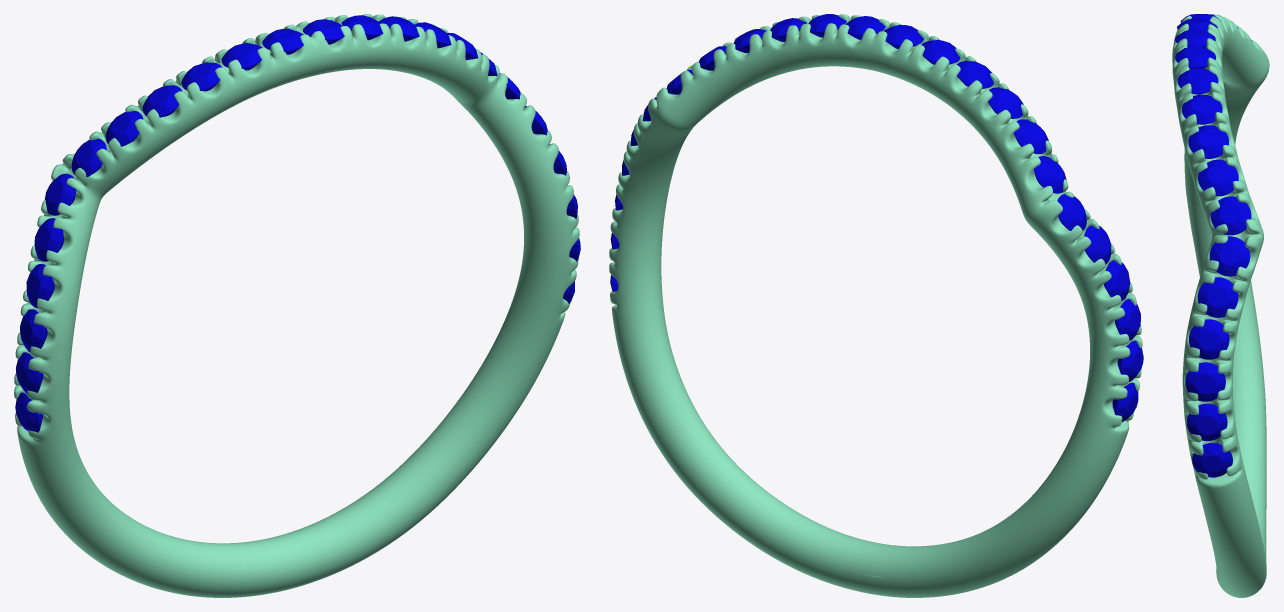
The picture shows the model from 3 angles, left to right: view 1: azimuth 30°, elevation 25°; view 2: azimuth 150°, elevation 25°; view 3: azimuth 270°, elevation 25°; orthographic projection. The views are drawn at different scales.
Visible parts, largest first — view 1: Metal03, Diamond_Band.005, Diamond_Band.004, Diamond_Band.019, Diamond_Band.006, Diamond_Band.023, Diamond_Band.003, Diamond_Band.007, Diamond_Band.002, Diamond_Band.008; view 2: Metal03, Diamond_Band.023, Diamond_Band.019, Diamond_Band.005, Diamond_Band.004, Diamond_Band.006, Diamond_Band.003, Diamond_Band.007, Diamond_Band.002; view 3: Metal03, Diamond_Band.015, Diamond_Band.016, Diamond_Band.022, Diamond_Band.017, Diamond_Band.020, Diamond_Band.021, Diamond_Band.014, Diamond_Band.018, Diamond_Band.013, Diamond_Band.012, Diamond_Band.011 (+3 smaller).
Boxes of the visible parts, left/top/right/bottom form: Metal03: left=14, top=14, right=579, bottom=597; Diamond_Band.005: left=105, top=111, right=143, bottom=146; Diamond_Band.004: left=34, top=218, right=63, bottom=261; Diamond_Band.019: left=44, top=173, right=76, bottom=215; Diamond_Band.006: left=142, top=85, right=182, bottom=117; Diamond_Band.023: left=71, top=138, right=106, bottom=176; Diamond_Band.003: left=26, top=264, right=54, bottom=308; Diamond_Band.007: left=181, top=62, right=222, bottom=91; Diamond_Band.002: left=20, top=309, right=47, bottom=352; Diamond_Band.008: left=221, top=43, right=262, bottom=70; Metal03: left=609, top=14, right=1142, bottom=597; Diamond_Band.023: left=1033, top=156, right=1066, bottom=193; Diamond_Band.019: left=1057, top=193, right=1086, bottom=230; Diamond_Band.005: left=1013, top=119, right=1048, bottom=153; Diamond_Band.004: left=1084, top=225, right=1111, bottom=264; Diamond_Band.006: left=988, top=87, right=1023, bottom=118; Diamond_Band.003: left=1104, top=260, right=1130, bottom=300; Diamond_Band.007: left=957, top=61, right=993, bottom=88; Diamond_Band.002: left=1115, top=299, right=1140, bottom=340; Metal03: left=1172, top=14, right=1269, bottom=597; Diamond_Band.015: left=1197, top=277, right=1238, bottom=317; Diamond_Band.016: left=1189, top=319, right=1229, bottom=359; Diamond_Band.022: left=1209, top=236, right=1250, bottom=276; Diamond_Band.017: left=1185, top=362, right=1225, bottom=401; Diamond_Band.020: left=1210, top=196, right=1251, bottom=235; Diamond_Band.021: left=1187, top=403, right=1227, bottom=440; Diamond_Band.014: left=1198, top=159, right=1238, bottom=196; Diamond_Band.018: left=1192, top=443, right=1232, bottom=477; Diamond_Band.013: left=1188, top=125, right=1228, bottom=158; Diamond_Band.012: left=1182, top=94, right=1222, bottom=124; Diamond_Band.011: left=1177, top=68, right=1218, bottom=94.
Size of the model in its own units: 20.78 by 20.79 by 3.46.
